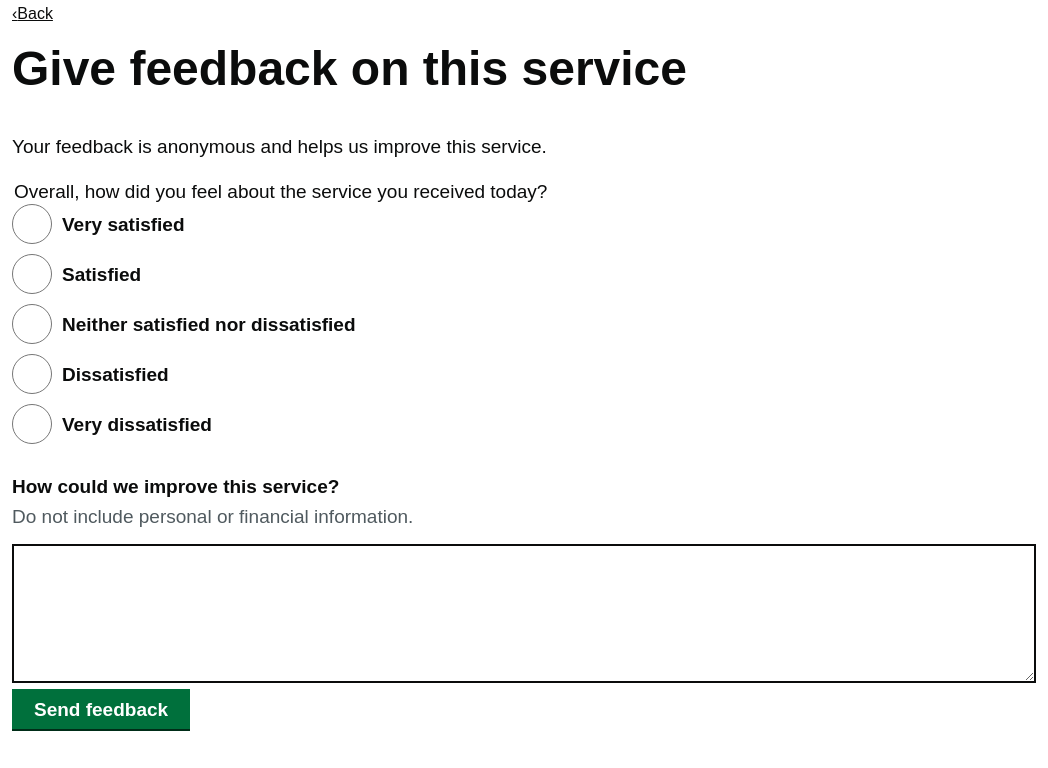
Test: FeedbackPage › 2. selecting a rating, typing a comment and submitting shows confirmation
Click the radio button labelled "Very satisfied".
click(32, 224)  # box [12,204,52,244]
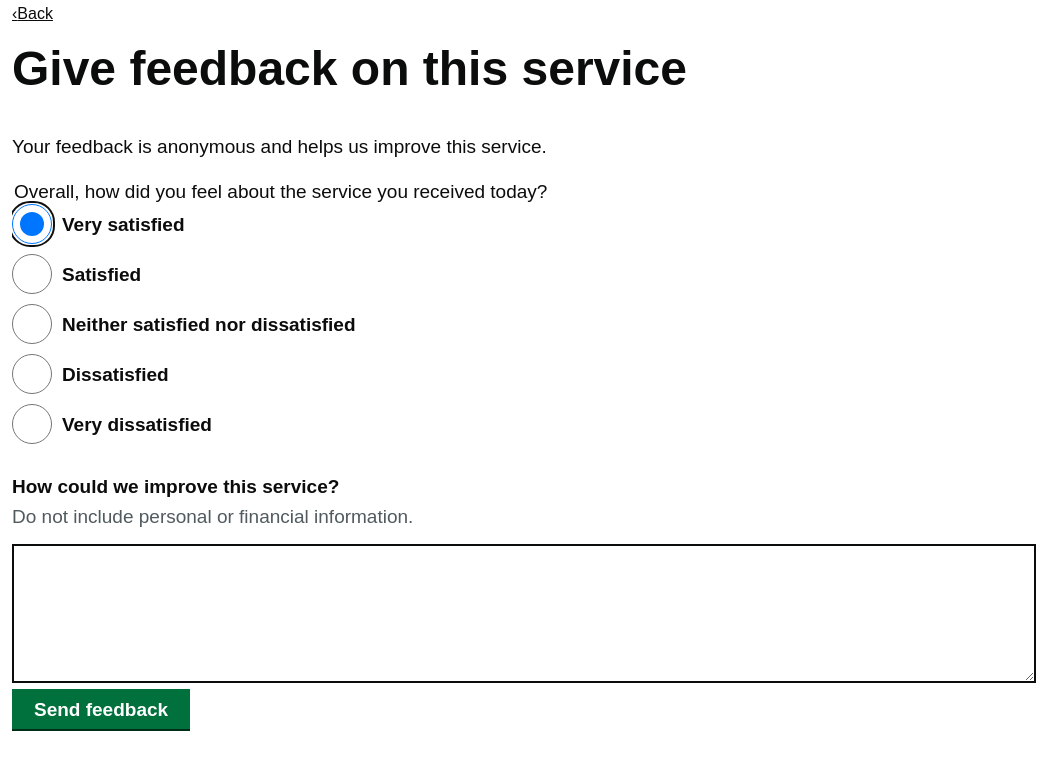
Type "Make it faster" into the text box labelled "How could we improve this service?".
click(524, 614); type("Make it faster")  # box [12,544,1036,683]
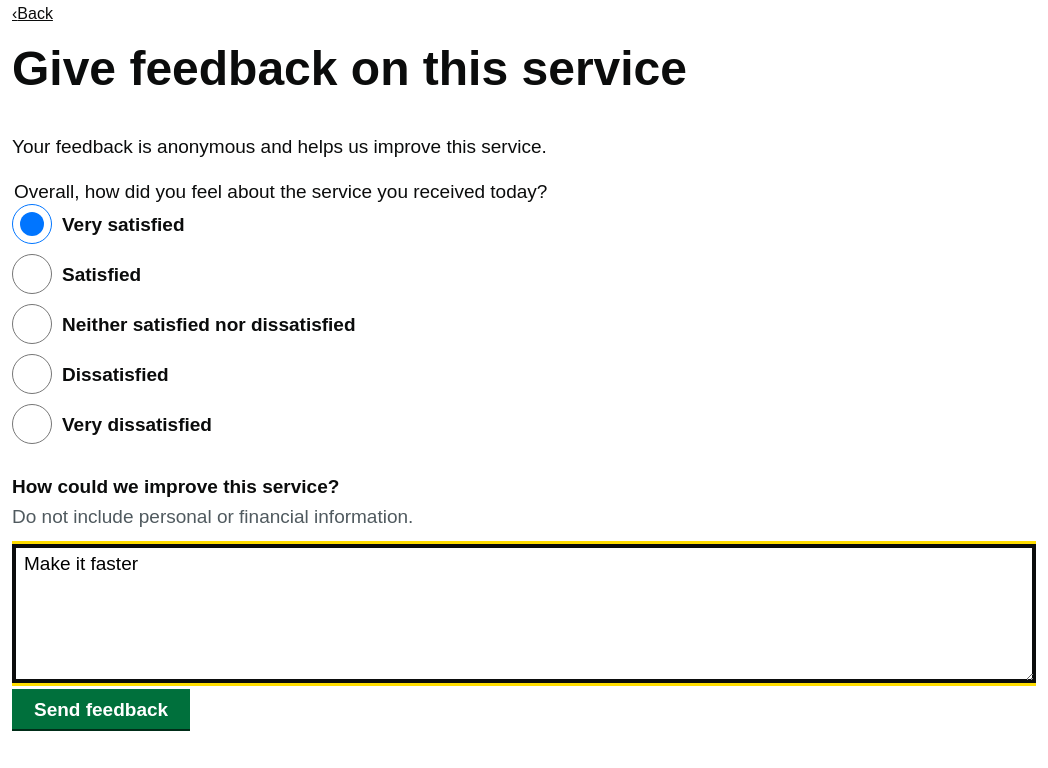
Click the button "Send feedback".
click(101, 709)  # box [12,689,190,729]
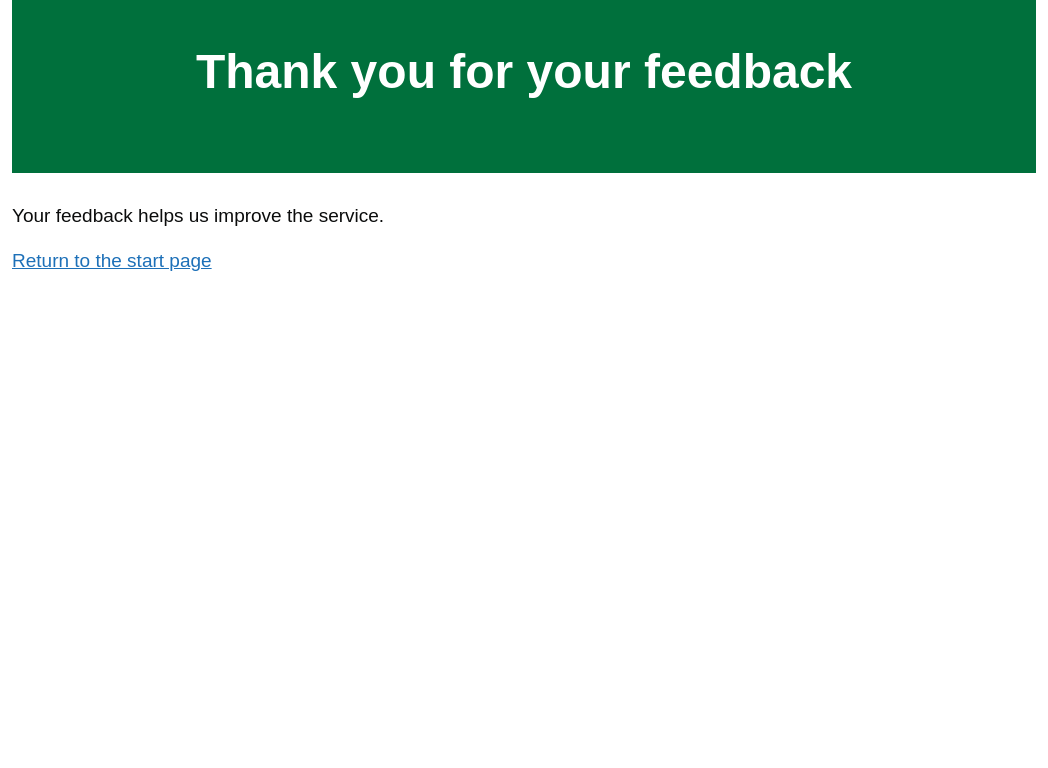
expect the heading "Thank you for your feedback" is shown: met, box [196,45,852,98]
expect no radio buttons are shown: met
